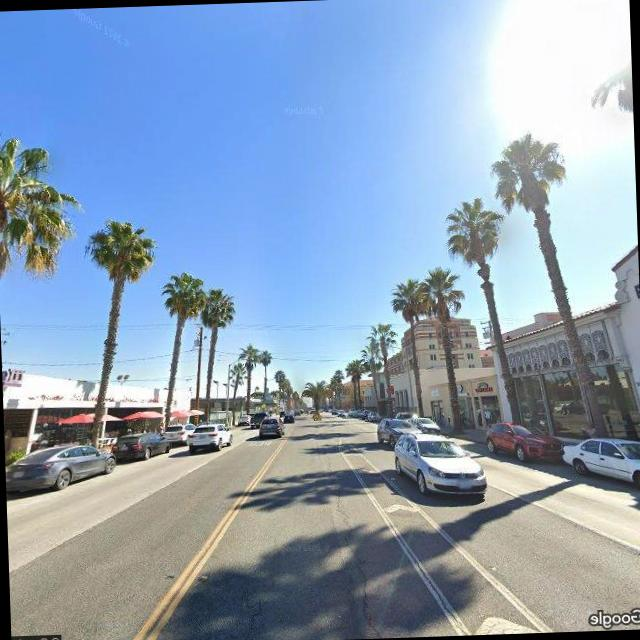pothole: (322, 455, 389, 639)
